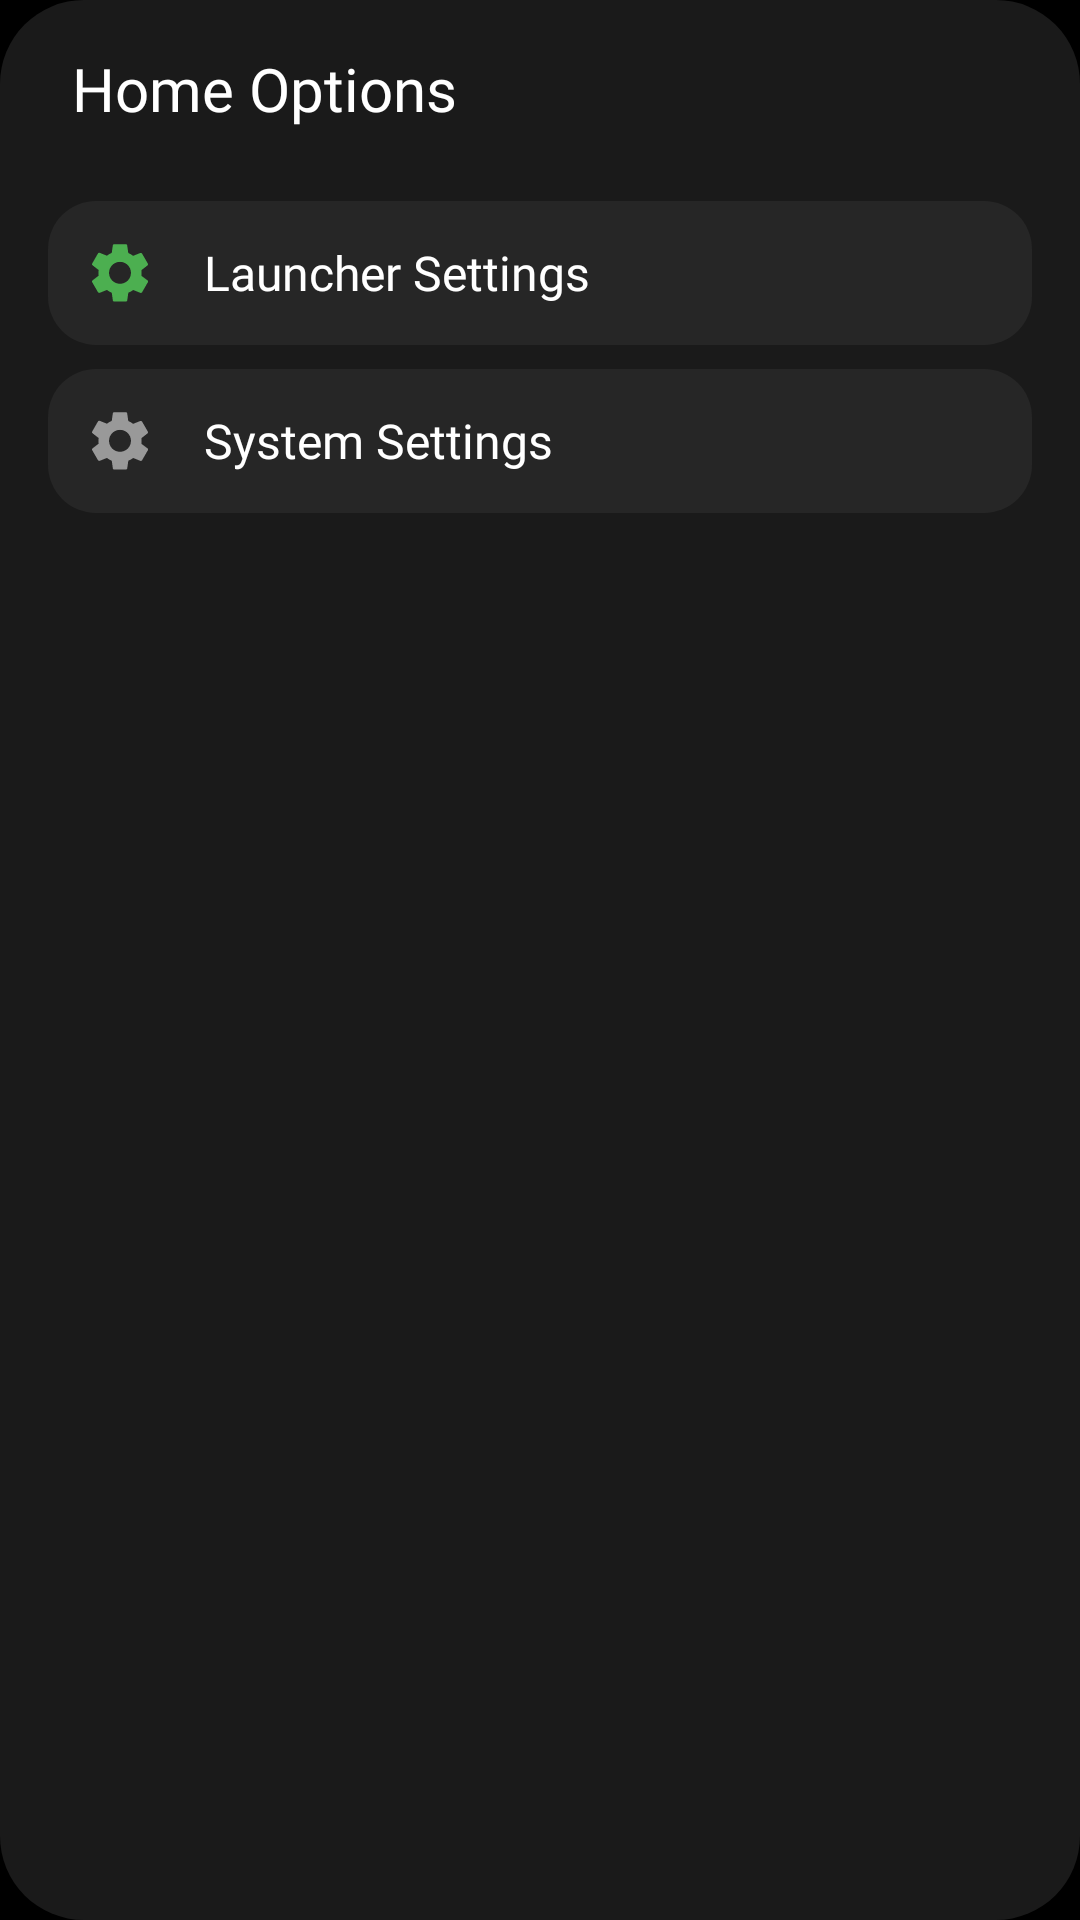

Icons on this 1080px×1920px Android screen, each with the point to tap as (x=x, y=y):
settings gear: (x=120, y=273), (x=120, y=441)
